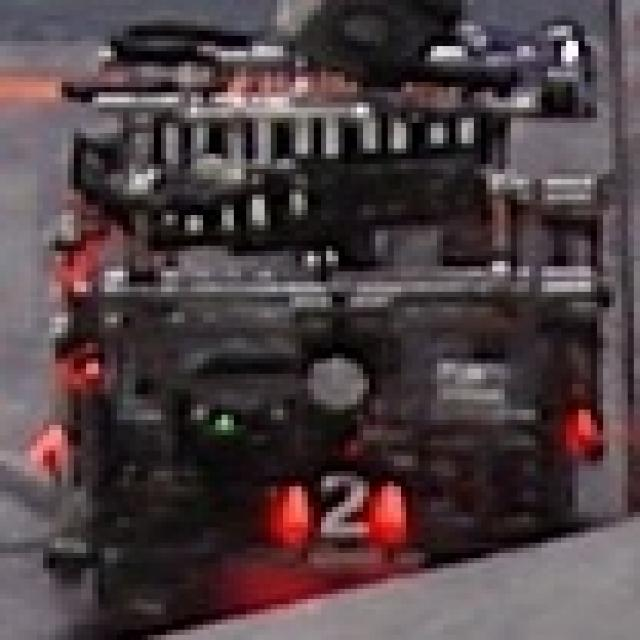R2: (277, 466, 400, 538)
